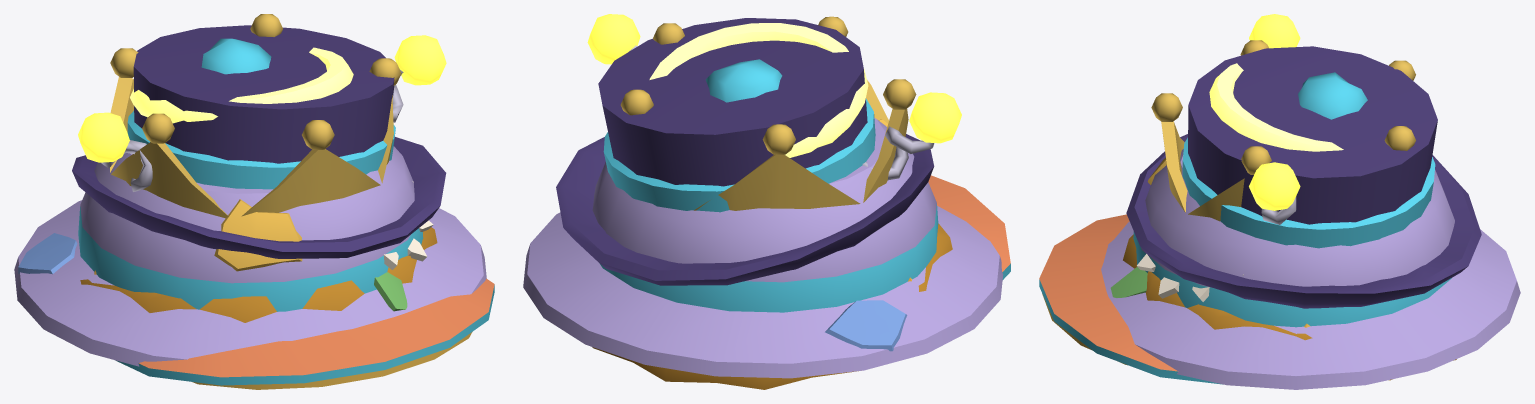
The model's file is cosmetic_hats.glb.
3 renders of one model, left to right at view 1: azimuth 30°, elevation 25°; view 2: azimuth 150°, elevation 25°; view 3: azimuth 270°, elevation 25°, orthographic. The views are drawn at different scales.
Visible parts, largest first — view 1: Hat_BUCKET_HAT, Hat_TOP_HAT, Hat_VISOR, Hat_CROWN, Hat_BEANIE, Hat_ANTENNA, Hat_HALO, Hat_CAP, Hat_FLOWER; view 2: Hat_BUCKET_HAT, Hat_TOP_HAT, Hat_CROWN, Hat_ANTENNA, Hat_HALO, Hat_BEANIE, Hat_VISOR; view 3: Hat_BUCKET_HAT, Hat_TOP_HAT, Hat_VISOR, Hat_CROWN, Hat_BEANIE, Hat_ANTENNA, Hat_HALO, Hat_FLOWER.
Part boxes in pixels (x1,y1,x2,y2): Hat_BUCKET_HAT: [14, 146, 486, 366]; Hat_TOP_HAT: [72, 25, 446, 258]; Hat_VISOR: [115, 278, 494, 385]; Hat_CROWN: [110, 14, 401, 218]; Hat_BEANIE: [80, 38, 437, 322]; Hat_ANTENNA: [78, 35, 446, 191]; Hat_HALO: [130, 47, 353, 123]; Hat_CAP: [192, 332, 472, 389]; Hat_FLOWER: [374, 181, 433, 311]; Hat_BUCKET_HAT: [523, 118, 1003, 378]; Hat_TOP_HAT: [556, 18, 934, 285]; Hat_CROWN: [620, 16, 916, 210]; Hat_ANTENNA: [587, 14, 961, 180]; Hat_HALO: [649, 23, 868, 157]; Hat_BEANIE: [592, 59, 952, 389]; Hat_VISOR: [928, 175, 1010, 279]; Hat_BUCKET_HAT: [1101, 149, 1520, 389]; Hat_TOP_HAT: [1126, 46, 1481, 308]; Hat_VISOR: [1039, 214, 1222, 384]; Hat_CROWN: [1151, 40, 1415, 221]; Hat_BEANIE: [1123, 72, 1456, 380]; Hat_ANTENNA: [1249, 14, 1300, 224]; Hat_HALO: [1209, 63, 1343, 151]; Hat_FLOWER: [1110, 254, 1243, 301].
Size of the model in its own units: 0.4796 by 0.2849 by 0.502.
